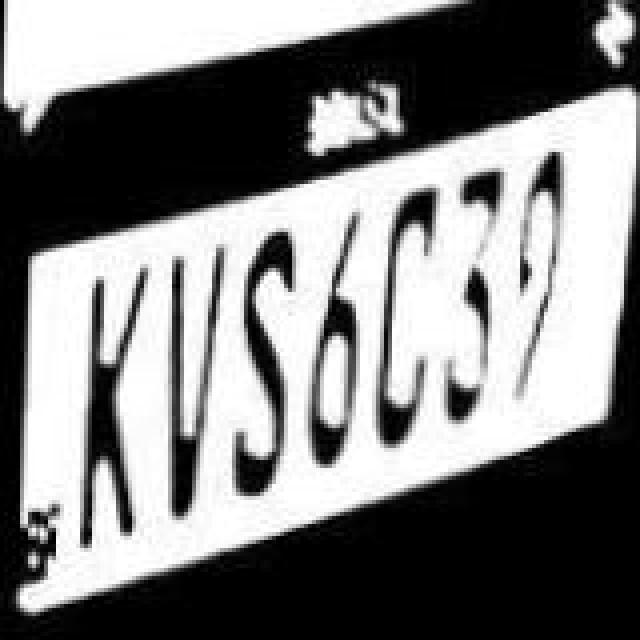3: (438, 162, 506, 430)
6: (300, 204, 372, 476)
9: (504, 146, 584, 410)
C: (366, 180, 450, 456)
K: (78, 264, 158, 540)
S: (226, 230, 302, 498)
V: (150, 242, 222, 518)
